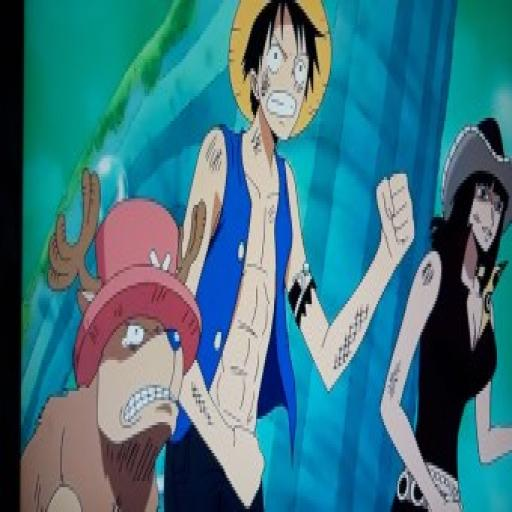Luffy: (224, 0, 331, 151)
NicoRobin: (434, 102, 512, 264)
